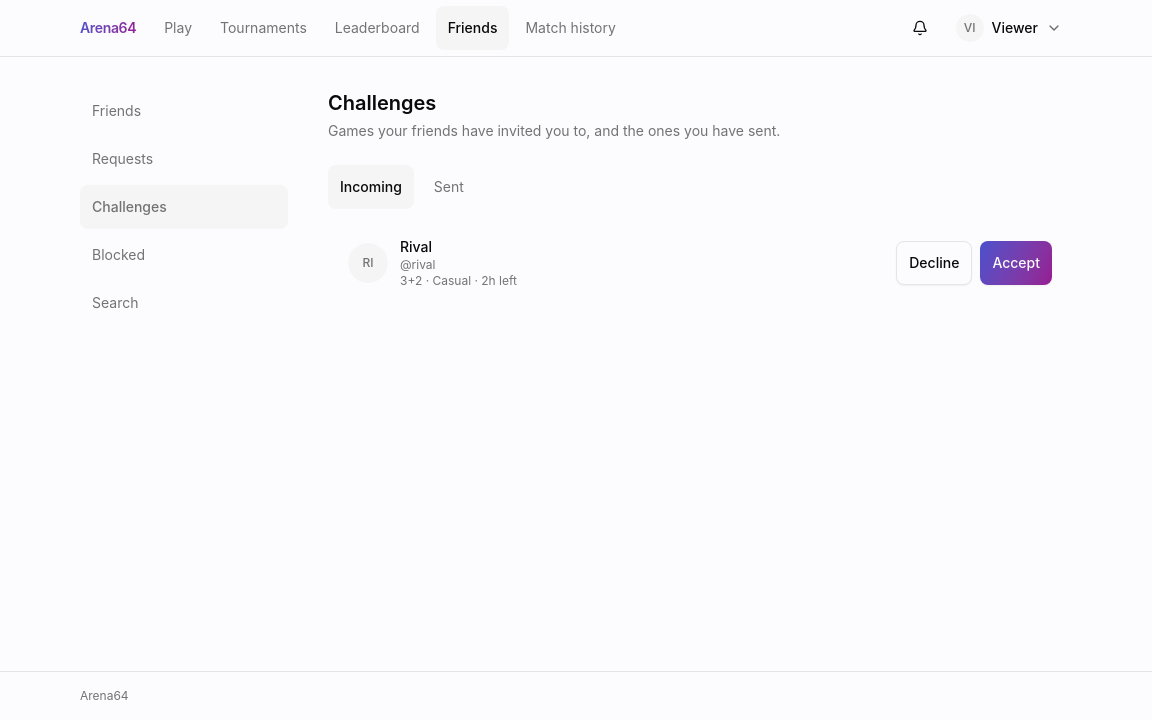
Test: removes a declined challenge and a cancelled one
Click the button with aria-label "decline the challenge from rival": (934, 263) [896,241,972,285]
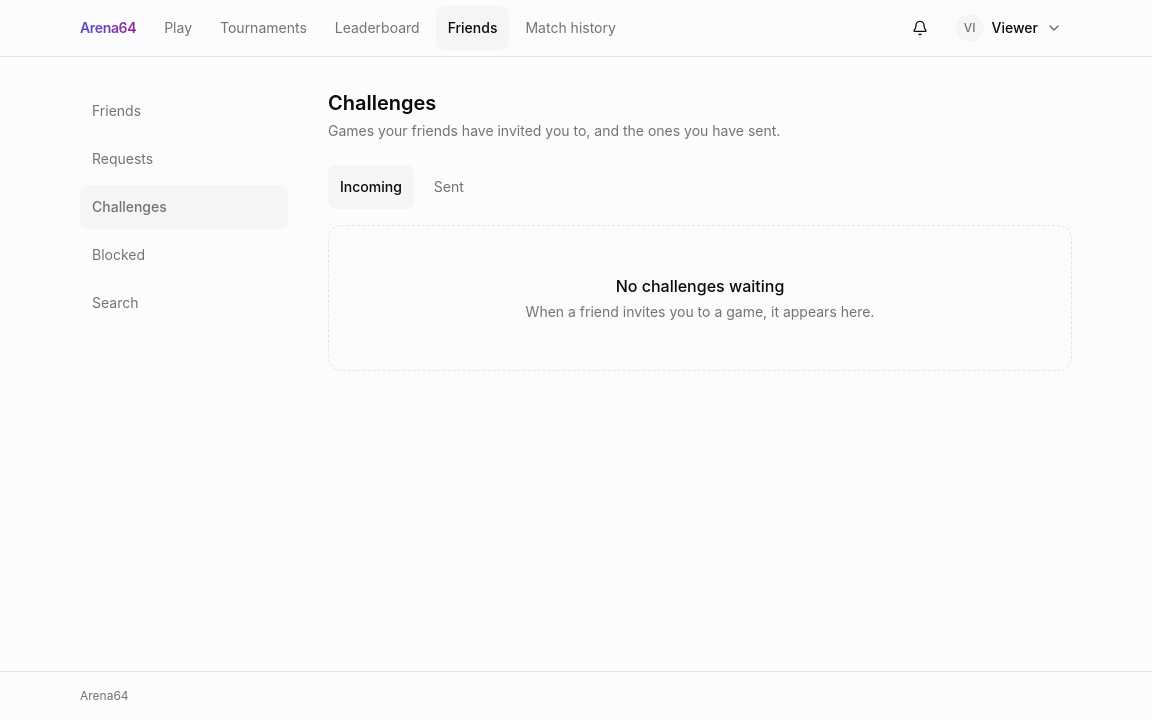
Check: the heading "No challenges waiting" is shown, box [616,274,784,298]
Click the tab "Sent": (449, 187) [422,165,476,209]
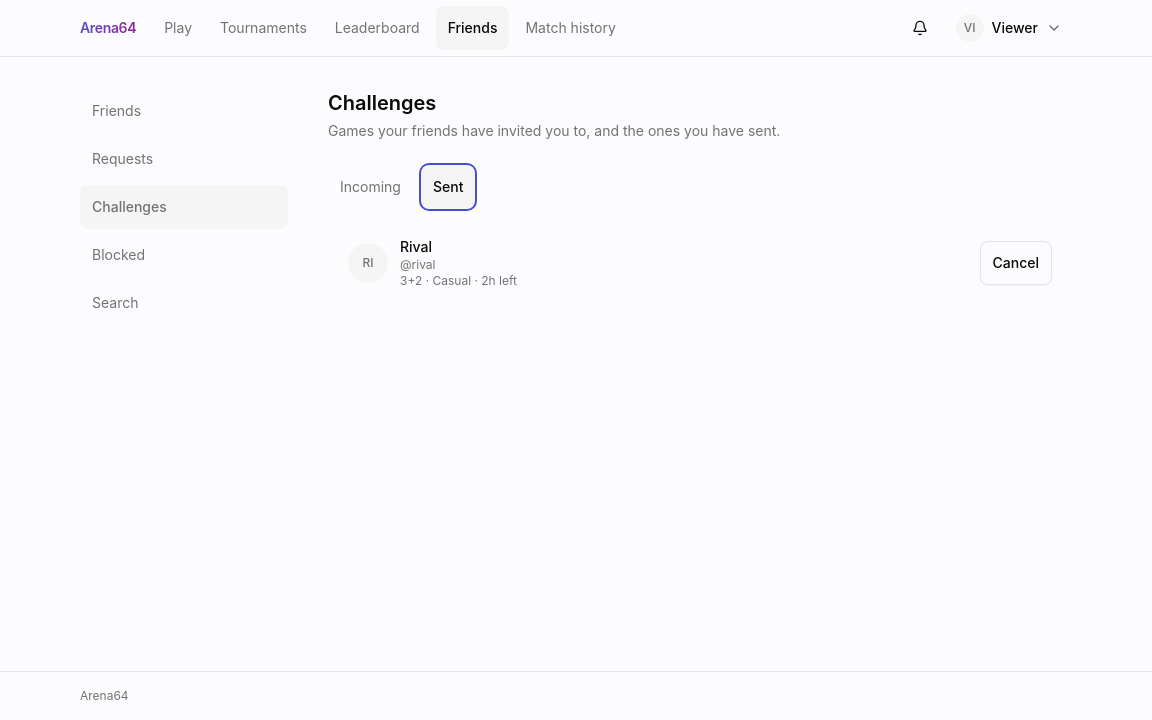
Click the button with aria-label "cancel the challenge to rival": (1016, 263) [980,241,1052,285]
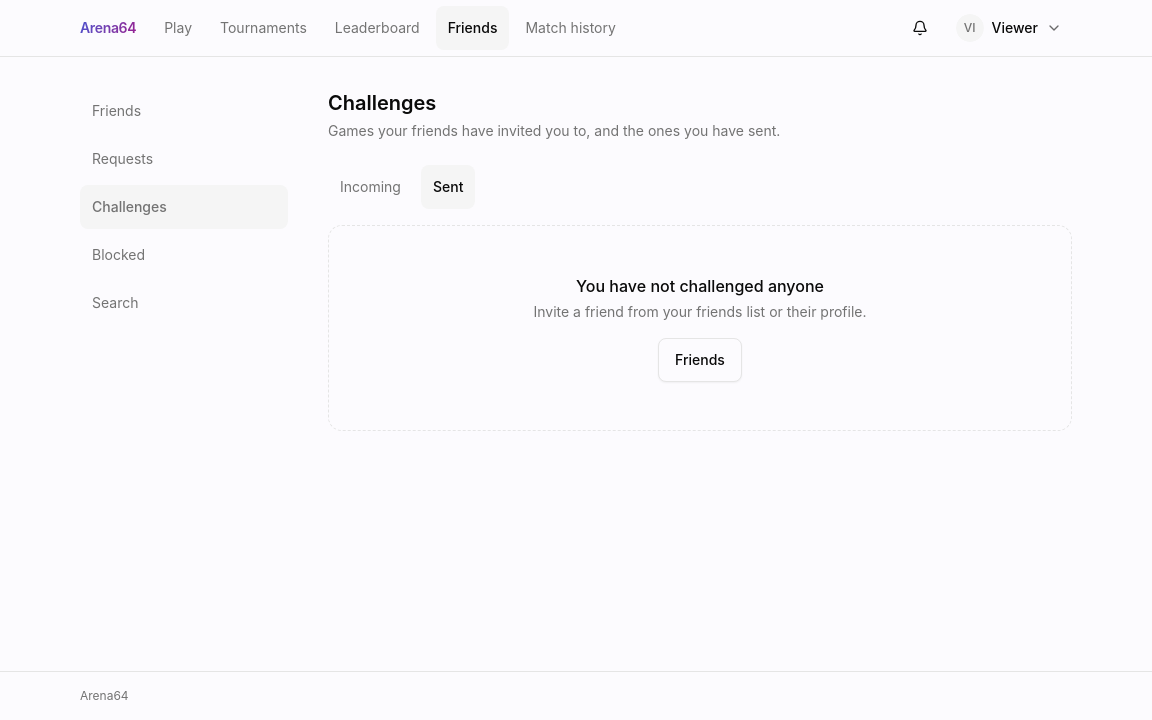
Check: the heading "You have not challenged anyone" is shown, box [576,274,824,298]
